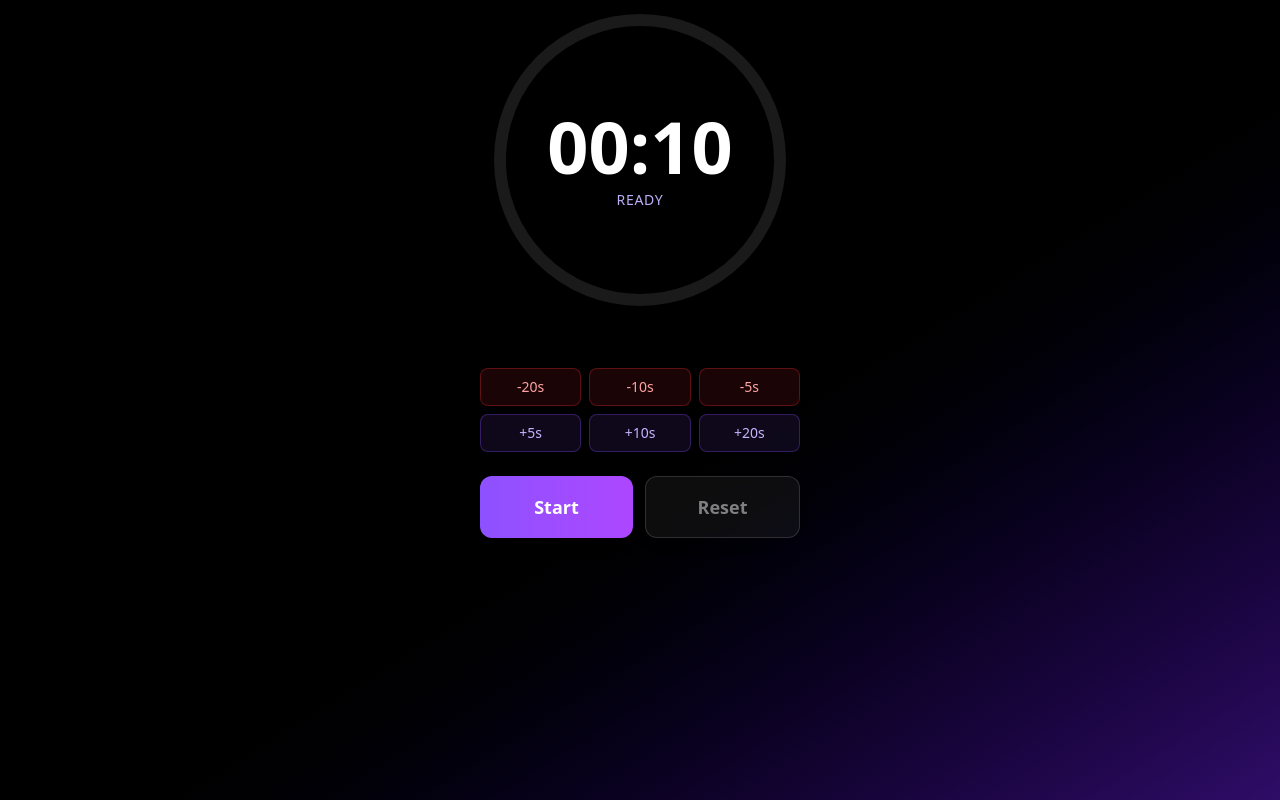
Pomodoro Timer › 6. removes time when stopped › does not go below 0
What coordinates should you click on to do the following:
click the button "-20s"
I would click on:
 (531, 387)
Its box is [480,368,581,406].
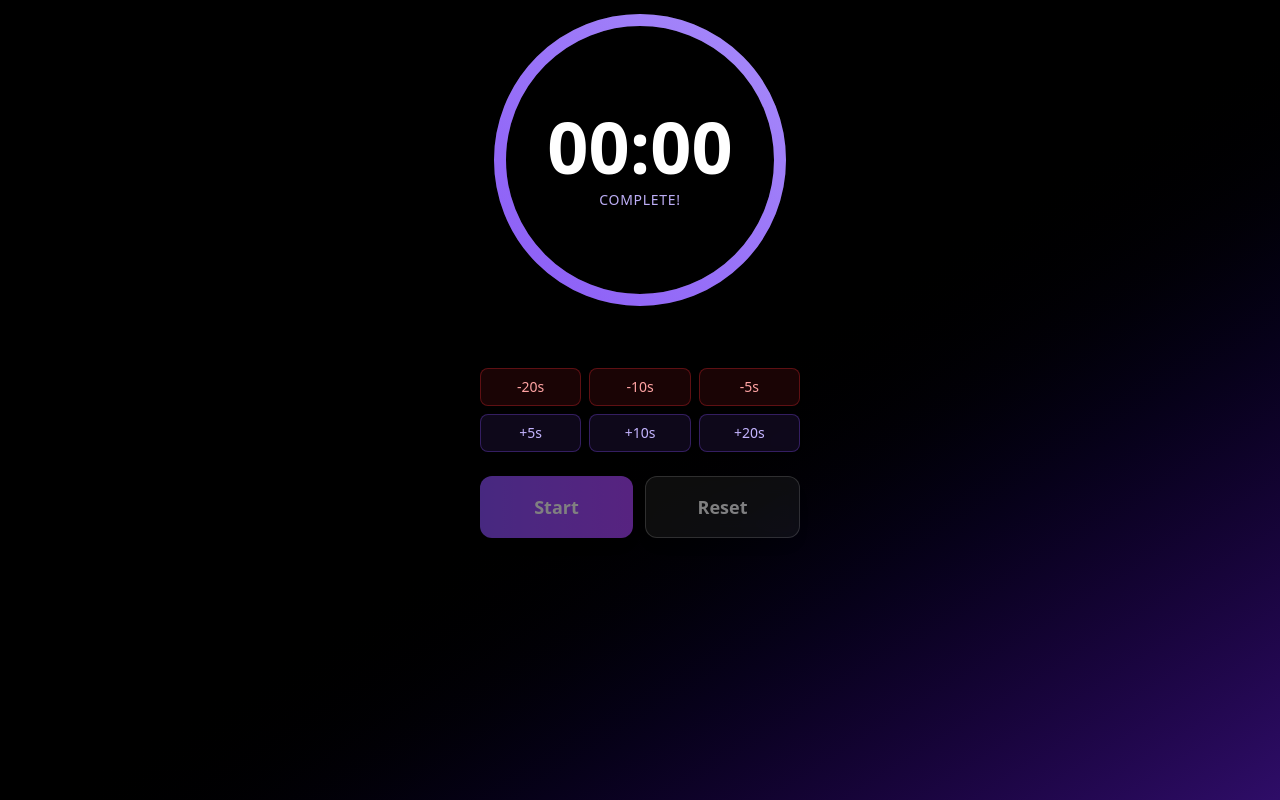
Expected: the text "00:00" is shown, [547,110,733,182]
